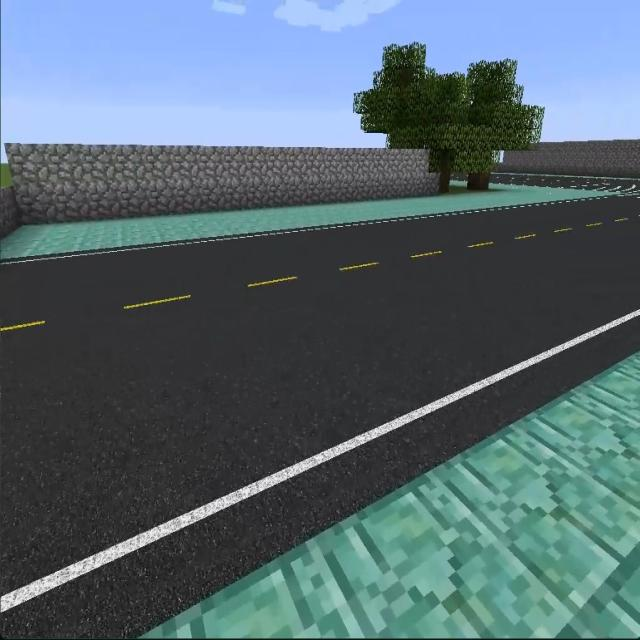road: (5, 195, 638, 632)
sidewalk: (141, 352, 639, 639), (9, 188, 592, 254)
